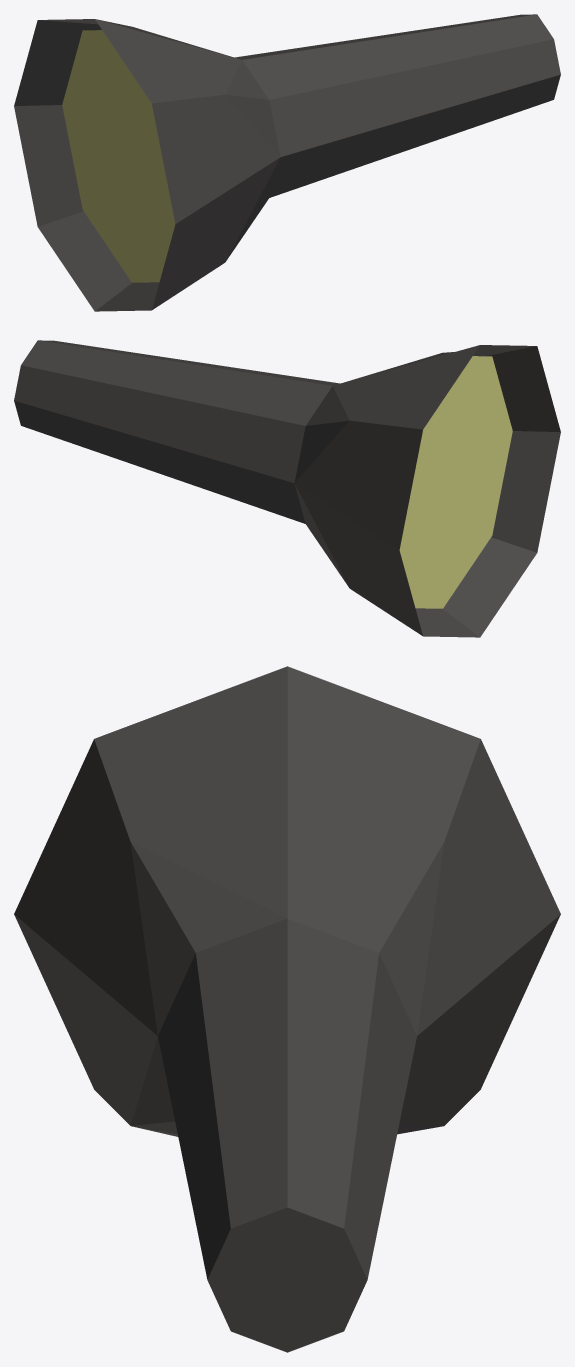
File: Flashlight_02.fbx
3 views of the same model, one above another, from view 1: azimuth 30°, elevation 25°; view 2: azimuth 150°, elevation 25°; view 3: azimuth 270°, elevation 25° (orthographic). The views are drawn at different scales.
Visible parts, largest first — view 1: Cube, Cube.001; view 2: Cube, Cube.001; view 3: Cube.
Part boxes in pixels (x1,y1,x2,y2): Cube: (14, 14, 560, 311); Cube.001: (62, 30, 175, 282); Cube: (14, 340, 560, 637); Cube.001: (399, 356, 512, 608); Cube: (14, 666, 560, 1352).
Size of the model in its own units: 278 by 176 by 176.
